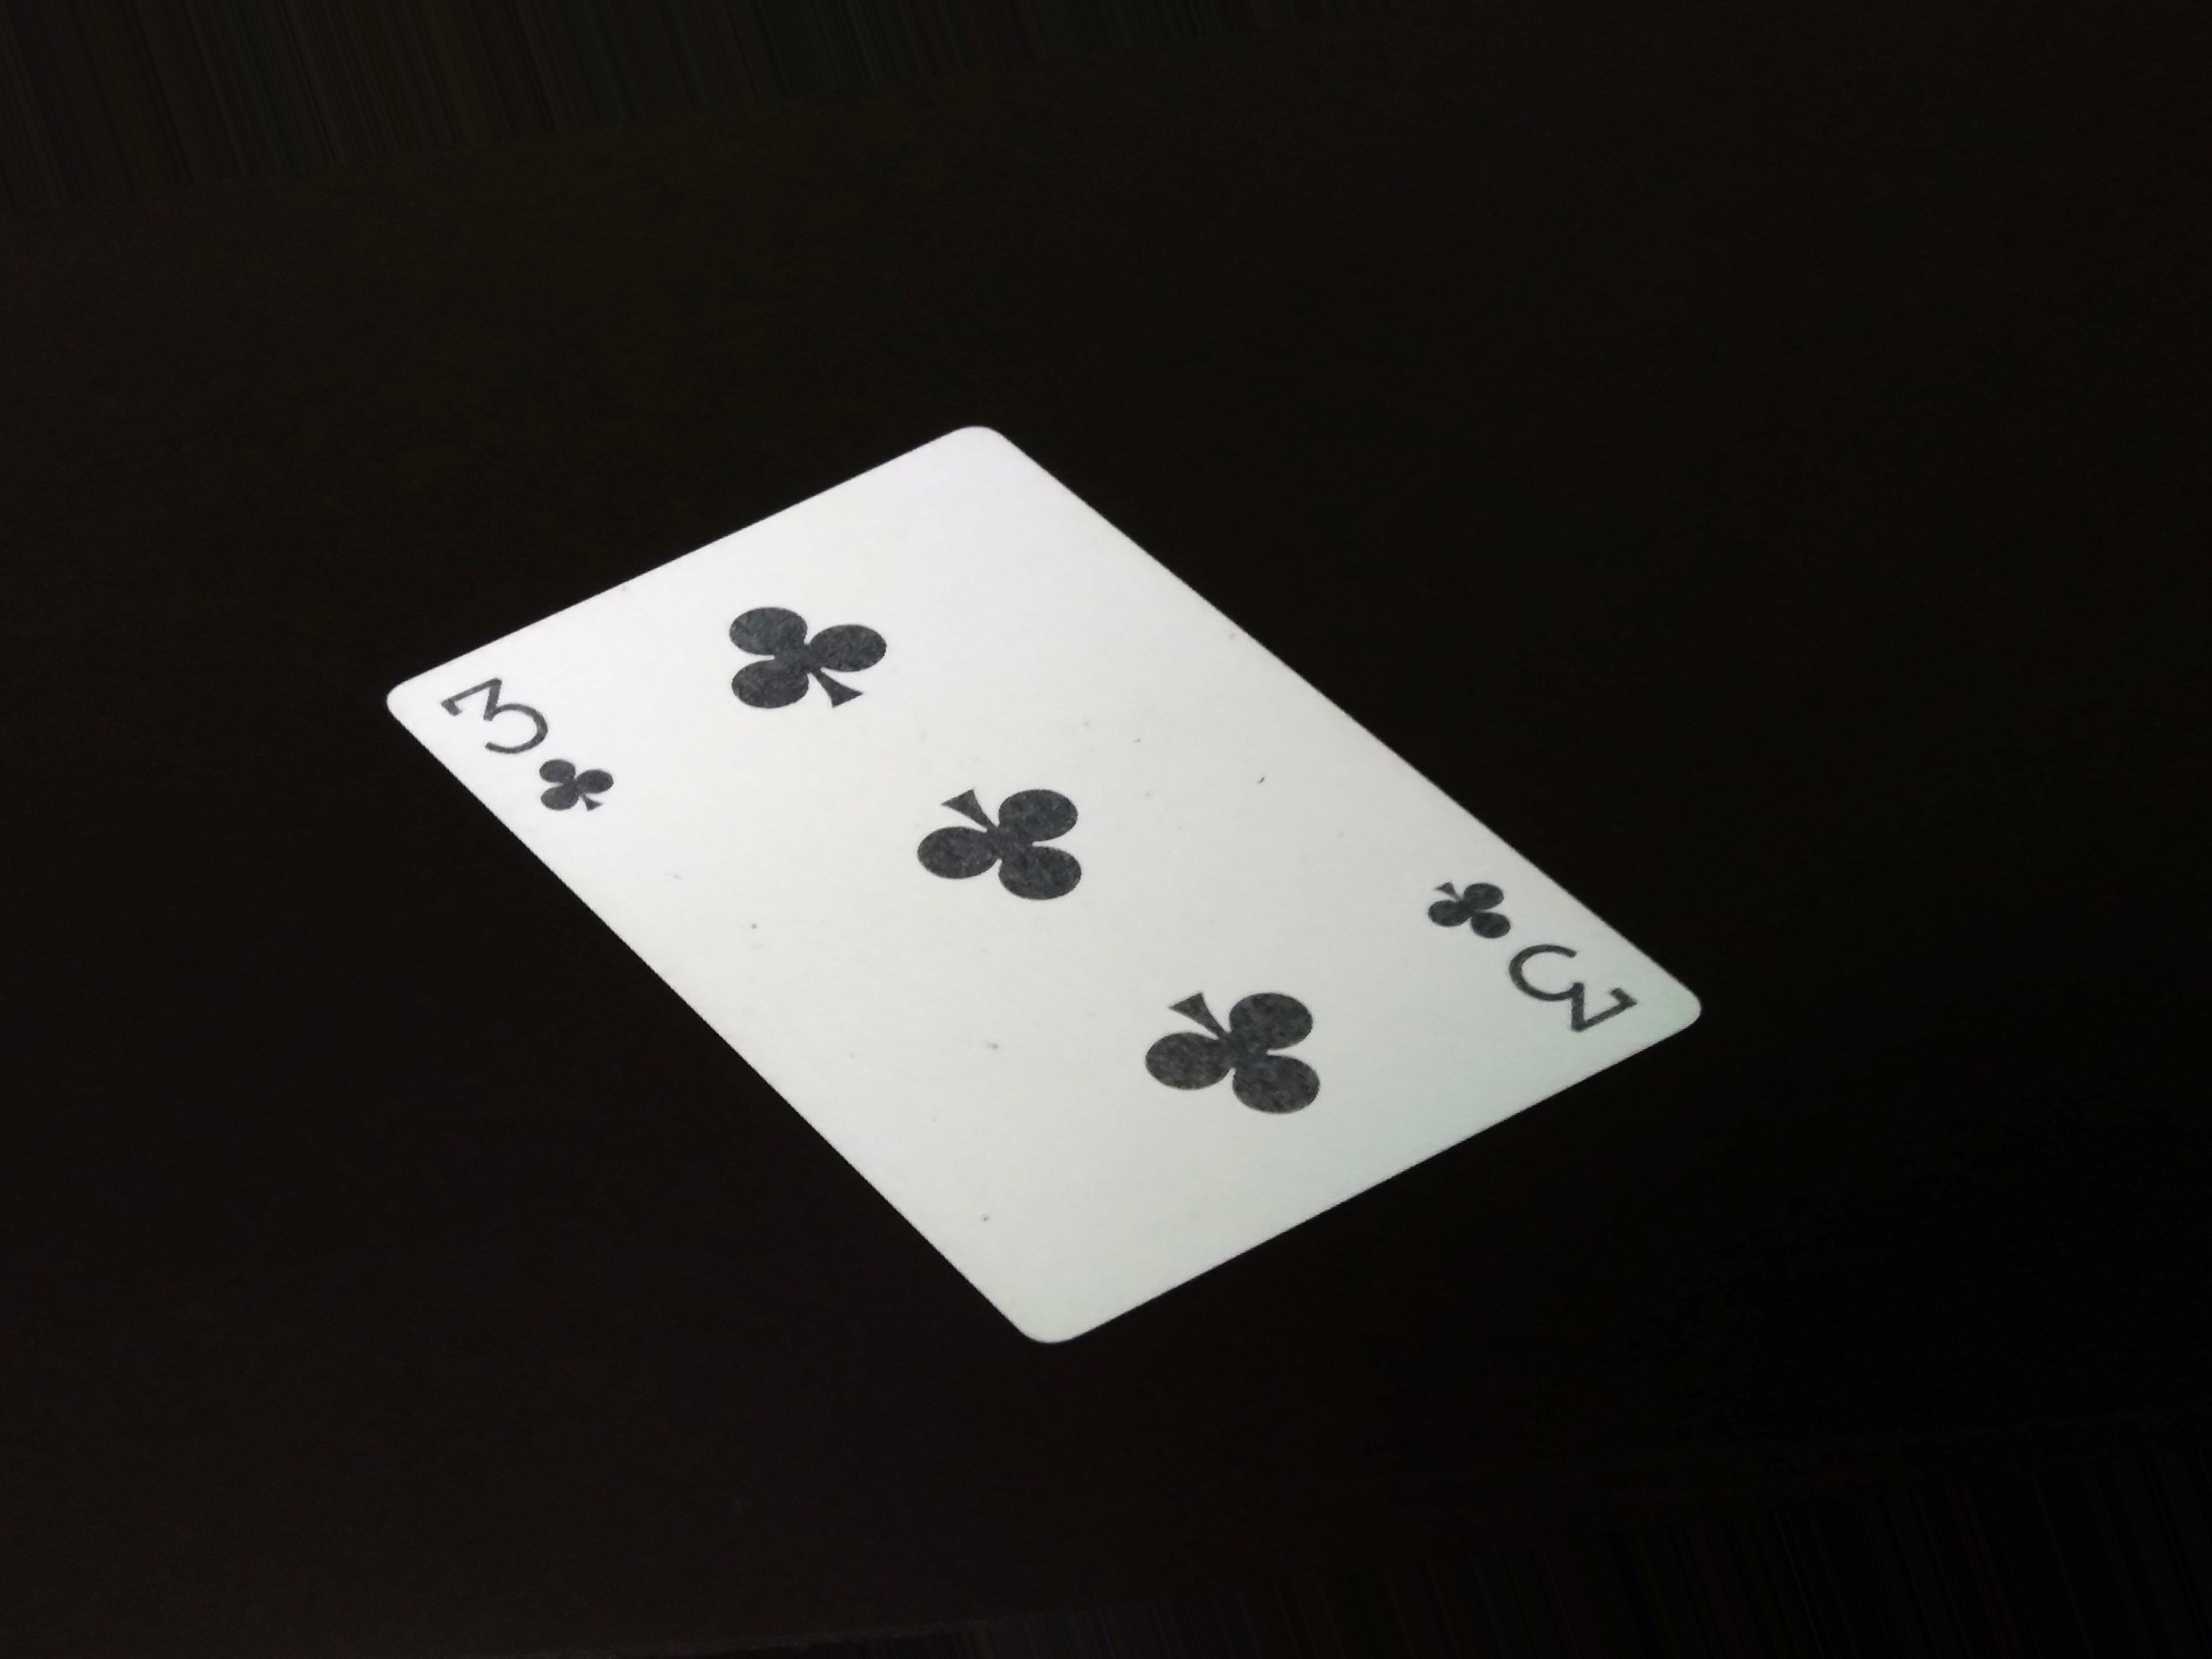3C: (1392, 864, 1653, 1042)
